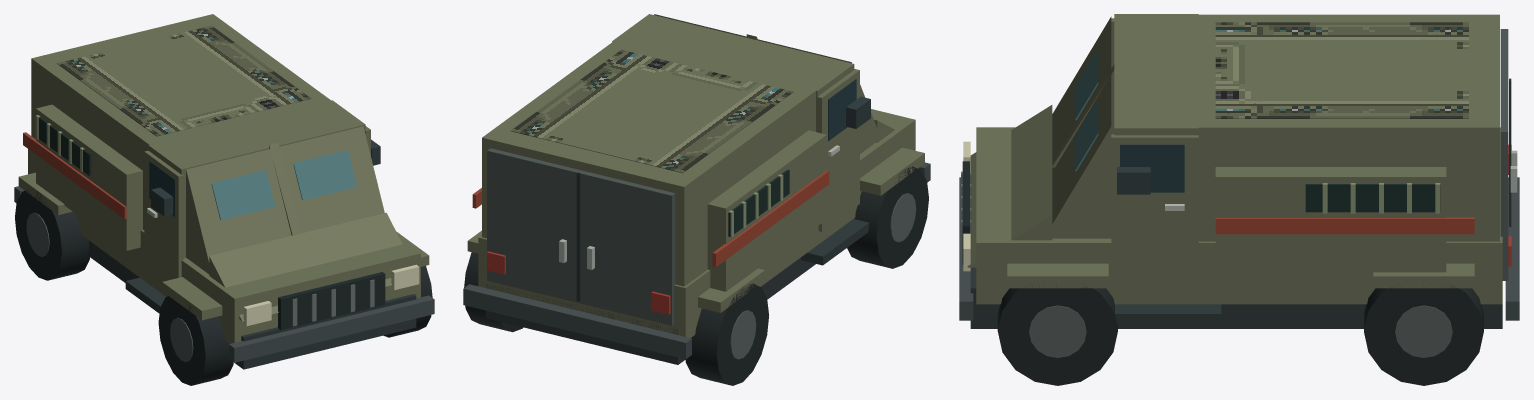
Rendered from CMU3DReduxVehicleSPPVanPrisoner.glb.
The picture shows the model from 3 angles, left to right: view 1: azimuth 30°, elevation 25°; view 2: azimuth 150°, elevation 25°; view 3: azimuth 270°, elevation 25°; orthographic projection. The views are drawn at different scales.
Visible parts, largest first — view 1: source roof livery, sloping cab frame, enclosed rear body, lower vehicle body, rubber road tire (×3), armored side storage, front hood, cab bulkhead, armored vision window (×2), bumper, cab door skin, sealed chassis (+10 smaller); view 2: rear double doors, source roof livery, enclosed rear body, rubber road tire (×3), armored side storage, cab bulkhead, lower vehicle body, bumper, cab door skin, wheel fender (×2), sealed chassis, side livery stripe (+7 smaller); view 3: enclosed rear body, source roof livery, lower vehicle body, armored side storage, rubber road tire (×2), cab door skin, cab bulkhead, sloping cab frame, front hood, sealed chassis, recessed metal wheel hub (×2), wheel fender (×2) (+10 smaller).
Part boxes in pixels (x1,y1,x2,y2): source roof livery: (57, 25, 311, 136); sloping cab frame: (186, 126, 384, 276); enclosed rear body: (31, 14, 330, 229); lower vehicle body: (28, 149, 420, 343); rubber road tire (×3): (15, 190, 432, 385); armored side storage: (36, 104, 142, 250); front hood: (209, 212, 402, 321); cab bulkhead: (148, 100, 365, 258); armored vision window (×2): (211, 150, 357, 219); bumper: (229, 295, 434, 362); cab door skin: (144, 150, 183, 284); sealed chassis: (88, 240, 416, 369); rear double doors: (487, 148, 675, 325); source roof livery: (511, 49, 793, 173); enclosed rear body: (482, 41, 820, 286); rubber road tire (×3): (464, 166, 928, 385); armored side storage: (707, 130, 826, 291); cab bulkhead: (612, 14, 854, 131); lower vehicle body: (478, 109, 915, 337); bumper: (463, 284, 691, 359); cab door skin: (816, 69, 859, 231); wheel fender (×2): (698, 147, 924, 312); sealed chassis: (485, 257, 815, 364); side livery stripe: (712, 170, 829, 266); enclosed rear body: (1184, 14, 1499, 241); source roof livery: (1215, 22, 1468, 118); lower vehicle body: (976, 127, 1502, 304); armored side storage: (1215, 167, 1446, 273); rubber road tire (×2): (997, 285, 1483, 385); cab door skin: (1111, 134, 1198, 290); cab bulkhead: (1114, 14, 1198, 135); sloping cab frame: (1044, 16, 1111, 238); front hood: (967, 105, 1052, 267); sealed chassis: (970, 267, 1502, 328); recessed metal wheel hub (×2): (1029, 305, 1452, 357); wheel fender (×2): (1007, 263, 1474, 288).
Bounding box in the file's own units: 1.79 × 1.46 × 2.99.
Materials: 22 (1 with a texture image).
